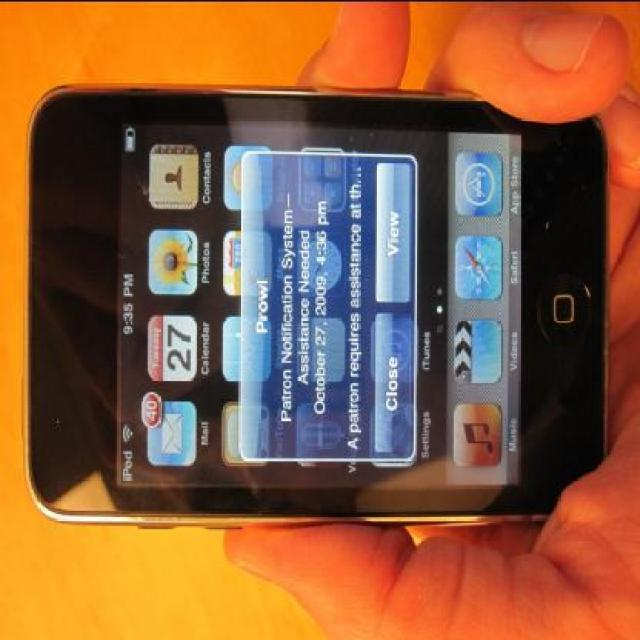phone: (23, 80, 612, 520)
